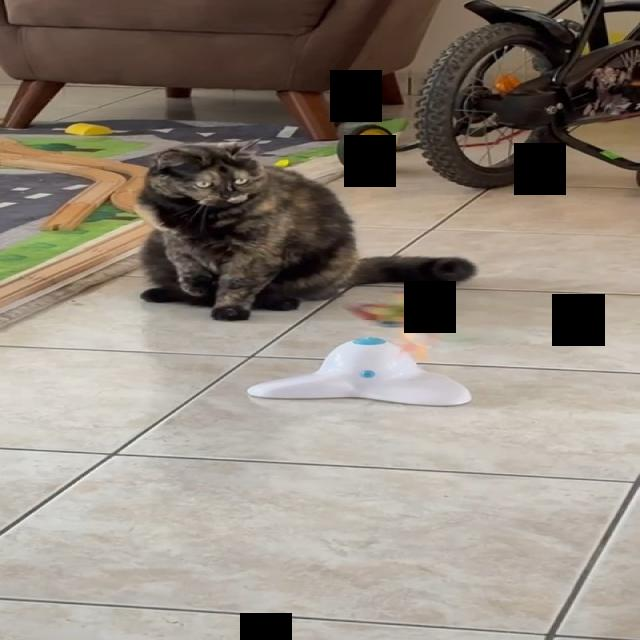authorized: (134, 137, 478, 320)
